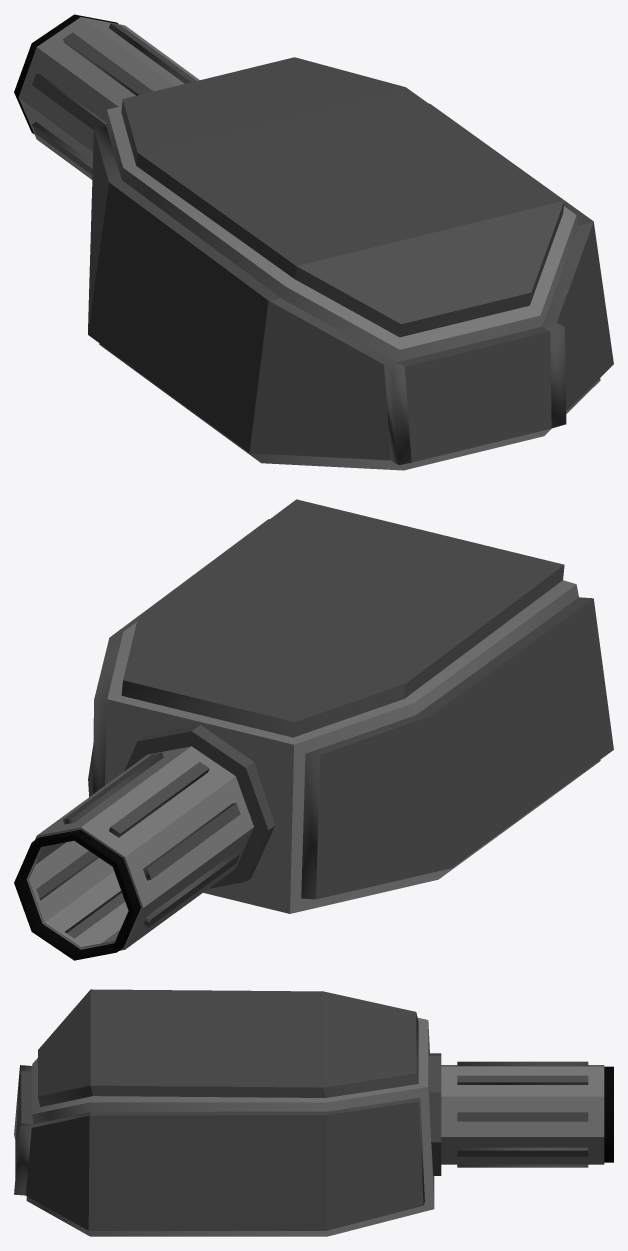
File: Big4.fbx
3 views of the same model, one above another, from view 1: azimuth 30°, elevation 25°; view 2: azimuth 150°, elevation 25°; view 3: azimuth 270°, elevation 25° (orthographic). The views are drawn at different scales.
Visible parts, largest first — view 1: Cube.003; view 2: Cube.003; view 3: Cube.003.
Boxes of the visible parts, <box> form: Cube.003: <box>14,14,613,470</box>; Cube.003: <box>14,499,613,960</box>; Cube.003: <box>14,989,613,1236</box>.
Size of the model in its own units: 157 by 77.6 by 305.
Materials: 1 (1 with a texture image).
